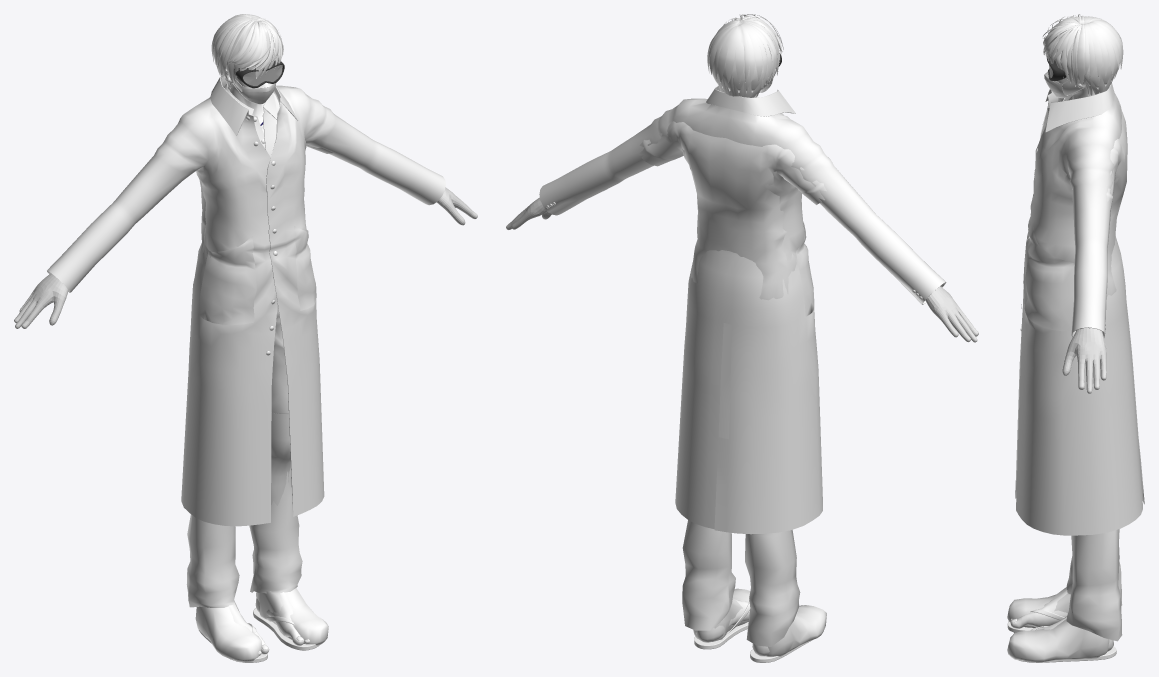
Rendered from CCVRMale.fbx.
The picture shows the model from 3 angles, left to right: view 1: azimuth 30°, elevation 25°; view 2: azimuth 150°, elevation 25°; view 3: azimuth 270°, elevation 25°; orthographic projection.
Parts seen in each view (by area): view 1: Labcoat, Pants, Shoes, Hair, Bottom, Gloves, Sandals, Goggle; view 2: Labcoat, Top, Pants, Hair, Shoes, Gloves, Sandals; view 3: Labcoat, Pants, Hair, Shoes, Gloves, Top, Sandals, FaceNBody, Mask, Goggle.
Boxes of the visible parts, x1,y1,x2,y2 form: Labcoat: (47, 76, 451, 526); Pants: (186, 468, 302, 607); Shoes: (195, 588, 328, 662); Hair: (211, 14, 283, 88); Bottom: (271, 304, 290, 505); Gloves: (14, 187, 477, 328); Sandals: (198, 592, 319, 662); Goggle: (234, 59, 284, 88); Labcoat: (539, 86, 946, 534); Top: (638, 121, 826, 300); Pants: (682, 520, 800, 646); Hair: (707, 14, 783, 97); Shoes: (693, 588, 826, 656); Gloves: (506, 198, 978, 342); Sandals: (694, 598, 812, 662); Labcoat: (1015, 83, 1144, 535); Pants: (1066, 529, 1122, 641); Hair: (1042, 14, 1123, 95); Shoes: (1007, 587, 1109, 662); Gloves: (1062, 328, 1106, 393); Top: (1071, 98, 1127, 296); Sandals: (1007, 590, 1116, 662); FaceNBody: (1055, 59, 1099, 99); Mask: (1044, 71, 1085, 98); Goggle: (1047, 56, 1068, 81).
Bounding box in the file's own units: 1772 × 2248 × 450.
Materials: 49 (2 with a texture image).
